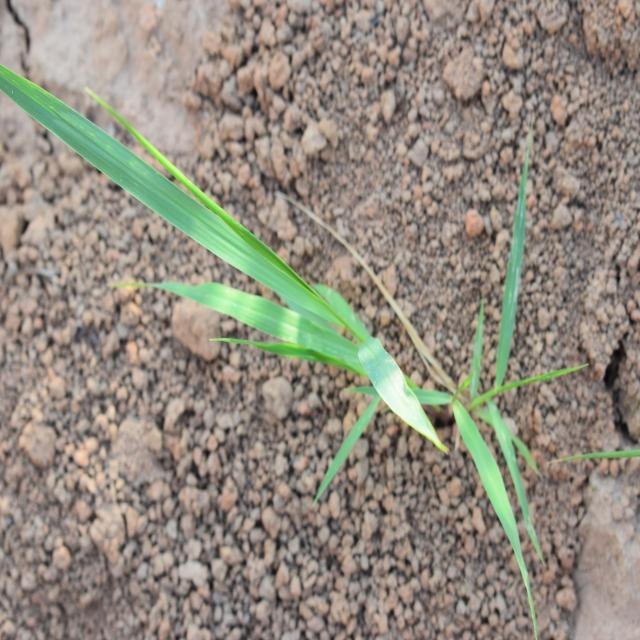green_foxtail: (46, 114, 529, 476)
